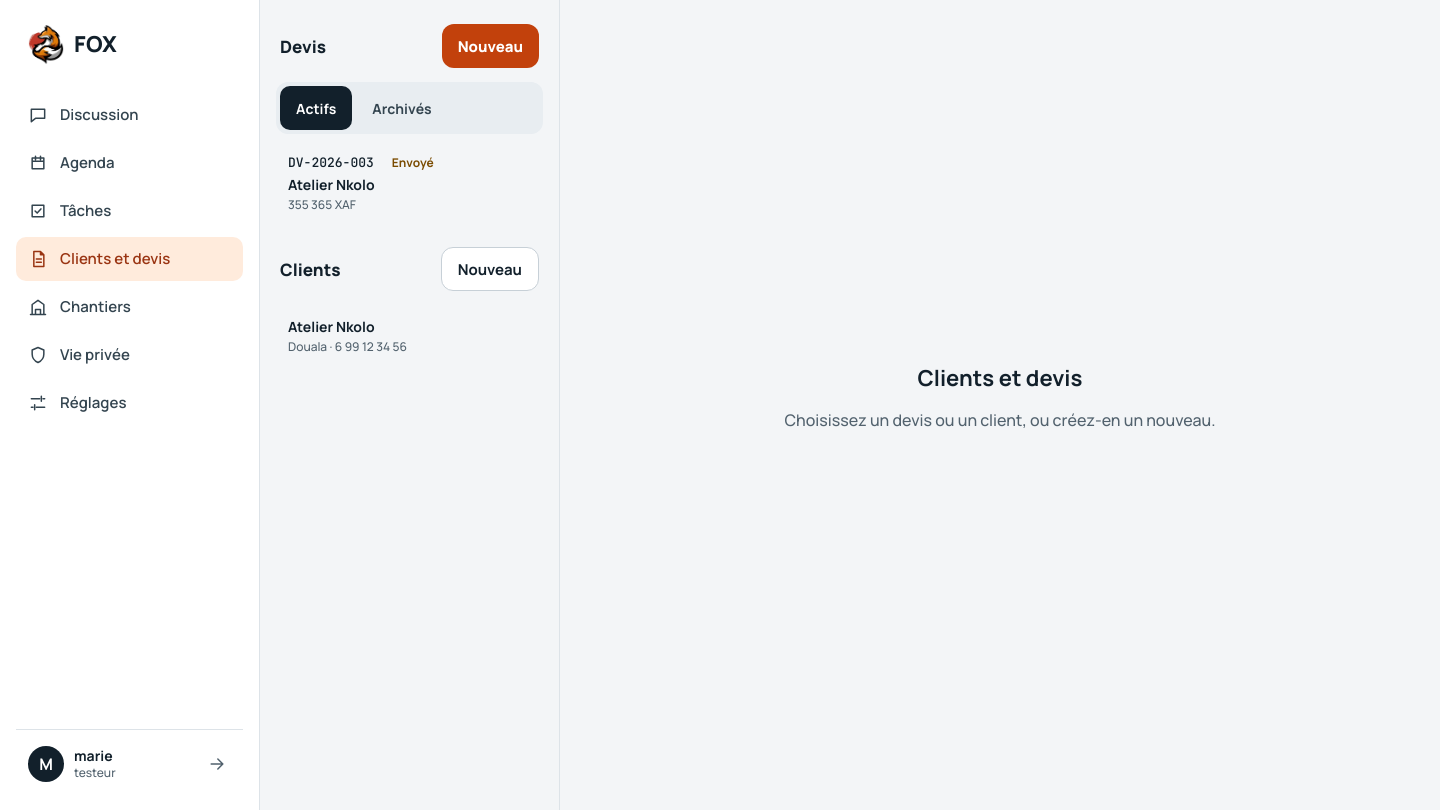
Test: Clients et devis › modifie puis supprime un client
This screenshot has width=1440, height=810.
Later steps or results of the test are not shown.
Click the button "Atelier Nkolo Douala · 6 99 12 34 56".
click(410, 336)  # box [276, 305, 543, 367]
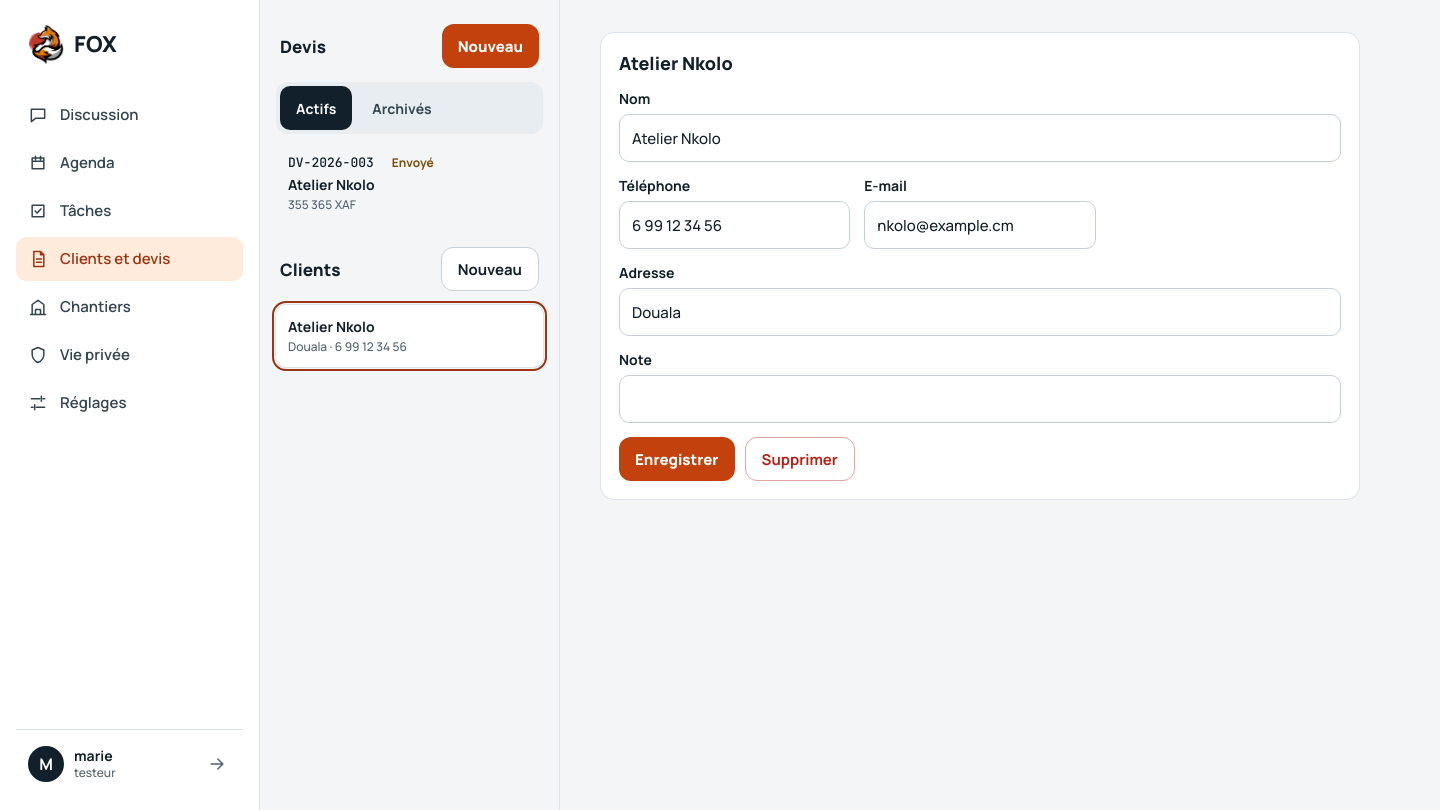
Replace the text in the field labelled "Téléphone" with "6 00 00 00 00" at x=735, y=225, box [619, 201, 850, 249]
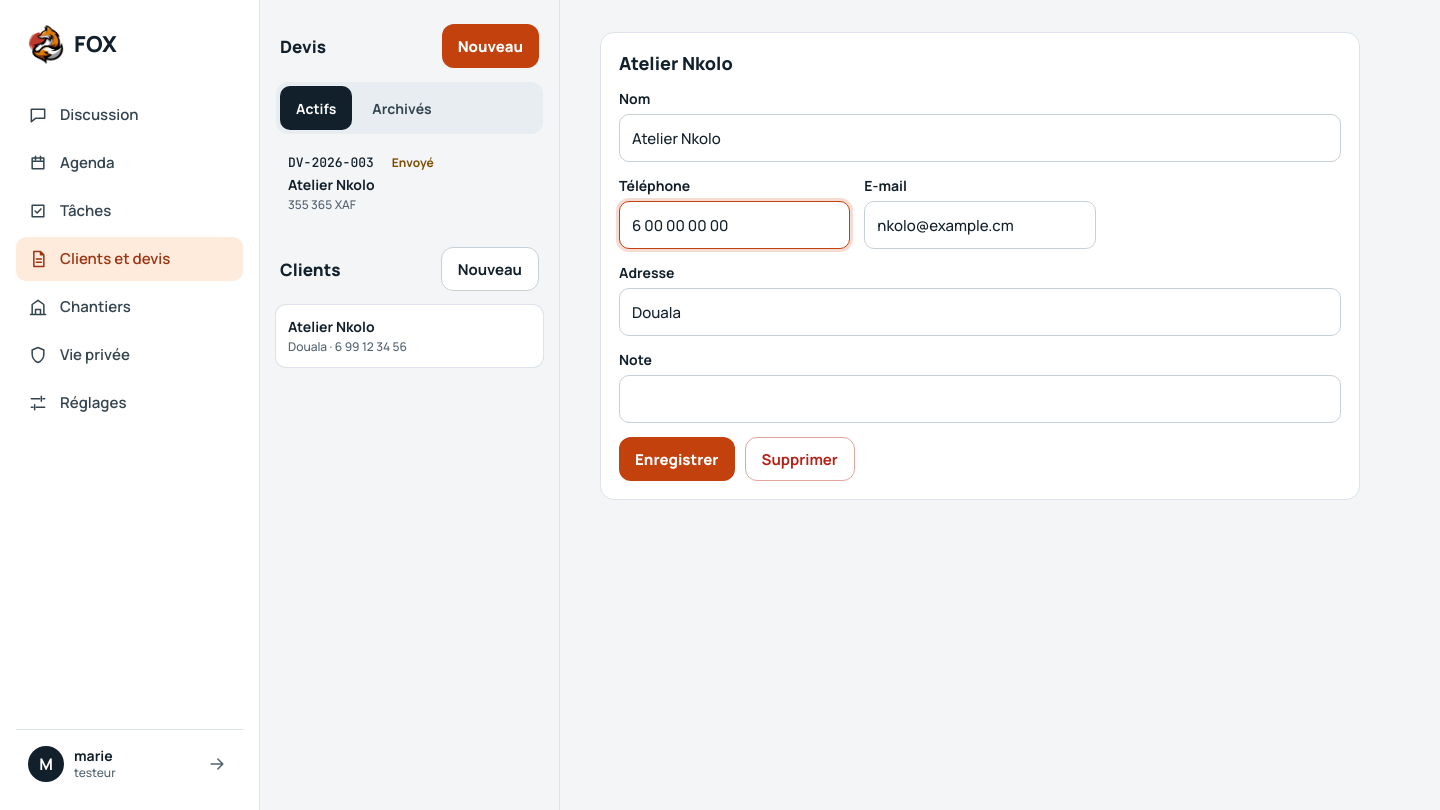
Click the button "Enregistrer".
click(677, 459)  # box [619, 437, 734, 481]
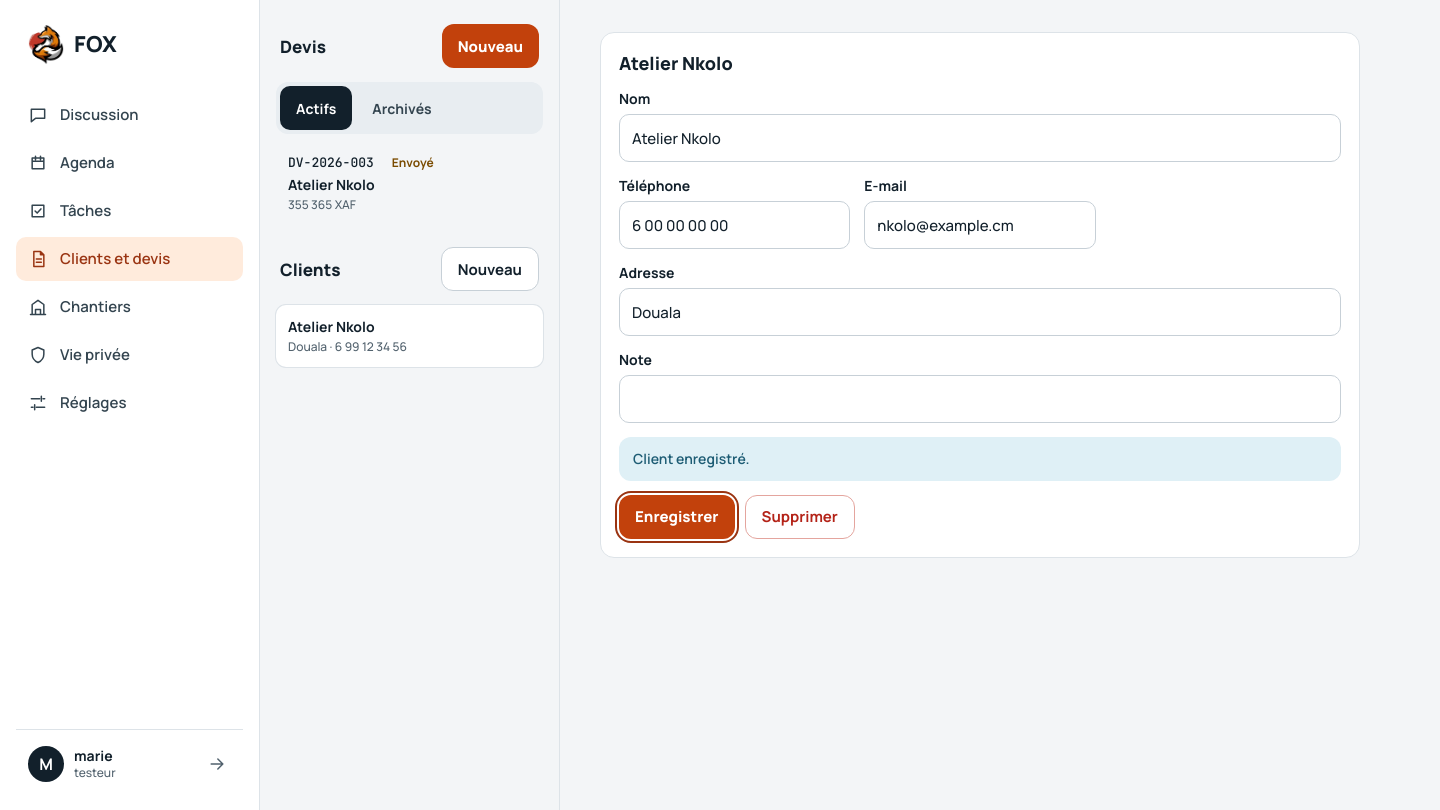
Expected: the message reads "Client enregistré.", [633, 449, 750, 468]
